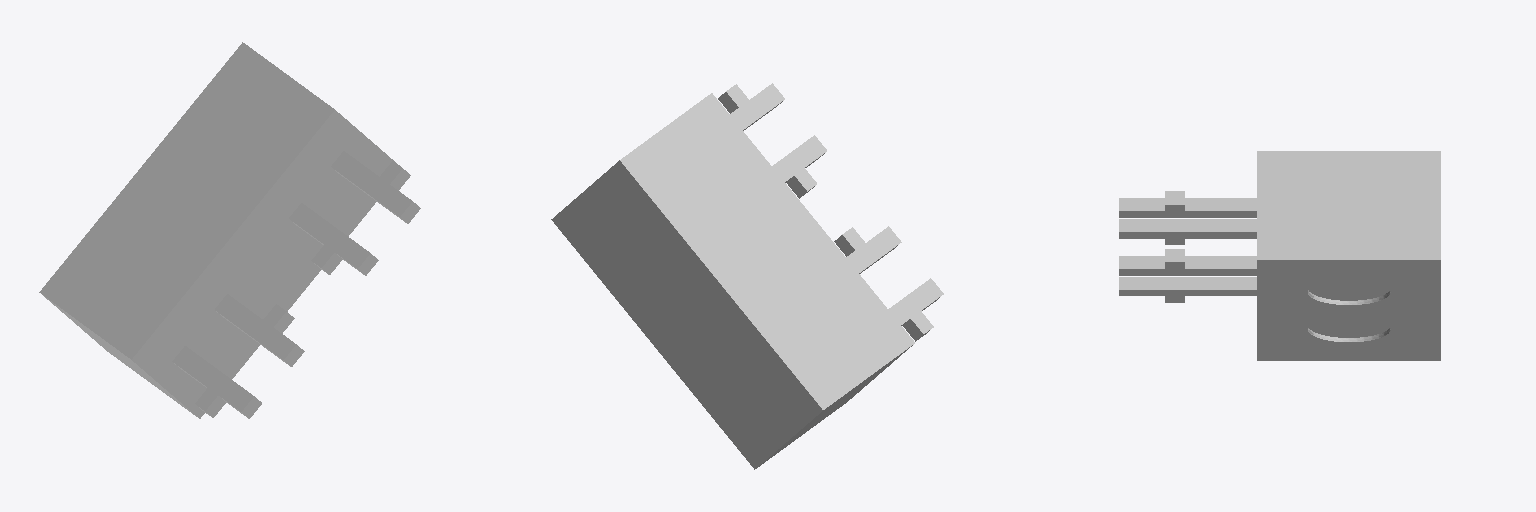
The model's file is IRIDIAepuck3D_Nov2019_Proximity6.obj.
3 renders of one model, left to right at view 1: azimuth 30°, elevation 25°; view 2: azimuth 150°, elevation 25°; view 3: azimuth 270°, elevation 25°, orthographic.
Visible parts, largest first — view 1: brep_87; view 2: brep_87; view 3: brep_87.
Boxes of the visible parts, box(x1,y1,x2,y2) form: brep_87: box(39, 42, 420, 418); brep_87: box(551, 83, 943, 469); brep_87: box(1119, 151, 1440, 360).
Bounding box in the file's own units: 0.0068 × 0.0066 × 0.007.